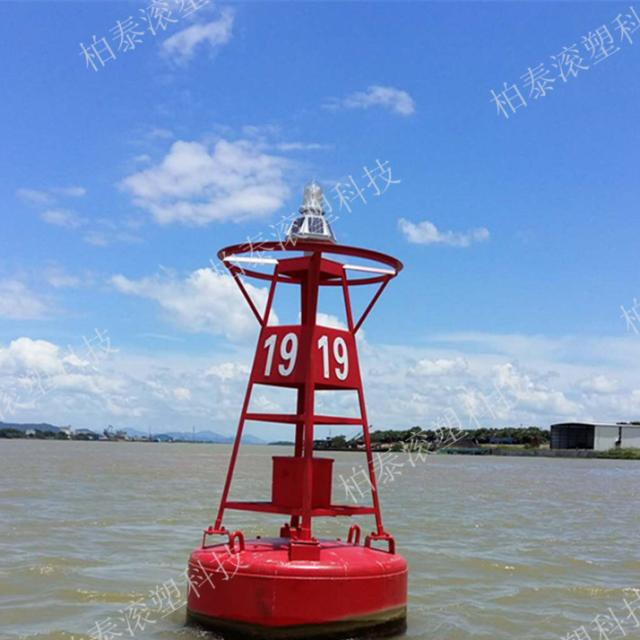buoy: (175, 170, 416, 631)
